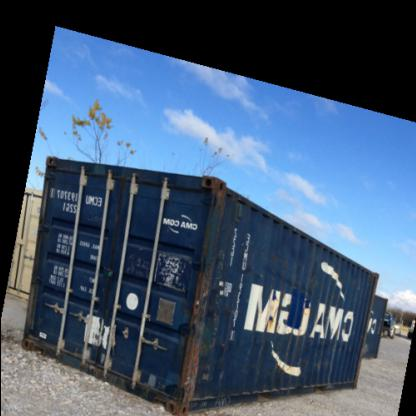Damage: (186, 258, 226, 393), (125, 248, 185, 288), (261, 262, 315, 296), (250, 356, 302, 385), (202, 176, 229, 212), (303, 334, 347, 349), (264, 303, 280, 330)
